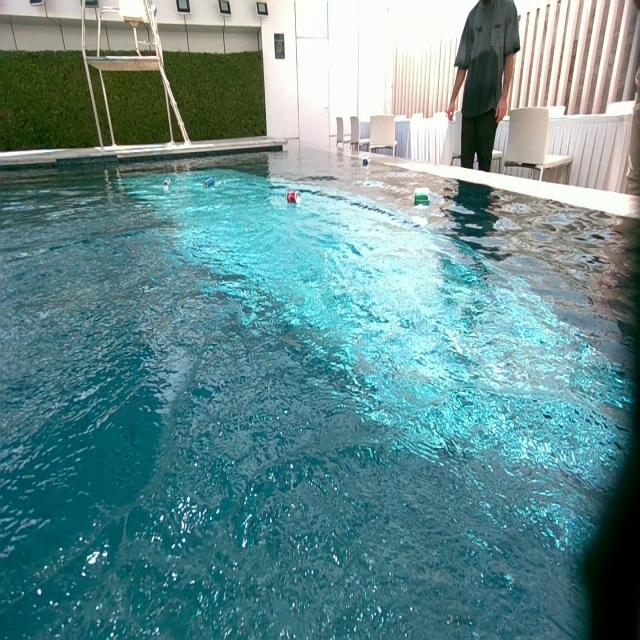Cans: (415, 188, 430, 202), (286, 190, 299, 203), (203, 176, 216, 189), (161, 180, 169, 192), (361, 158, 370, 167)
